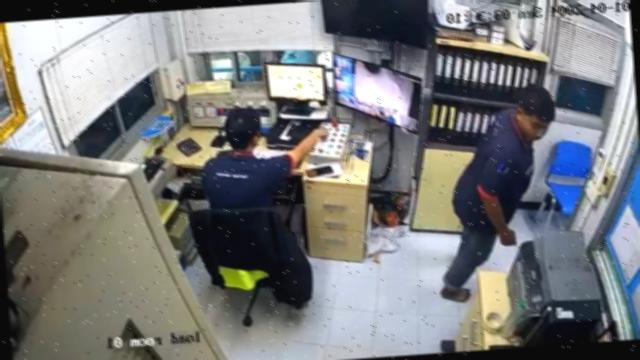Head: (512, 85, 556, 141), (220, 107, 264, 152)
People: (439, 85, 557, 301), (201, 109, 328, 209)
Phone: (312, 164, 333, 175)
